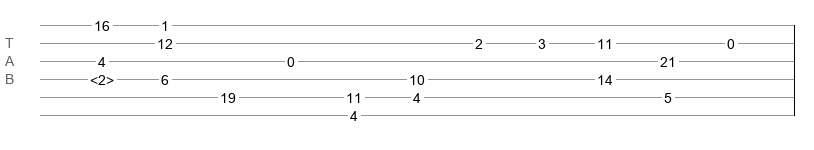0: (287, 54, 295, 64), (727, 36, 735, 46)
1: (161, 18, 169, 28)
10: (409, 72, 425, 82)
11: (346, 90, 362, 100), (597, 36, 613, 46)
12: (157, 36, 173, 46)
14: (597, 72, 613, 82)
16: (94, 18, 110, 28)
19: (220, 90, 236, 100)
2: (475, 36, 483, 46)
21: (660, 54, 676, 64)
3: (538, 36, 546, 46)
4: (98, 54, 106, 64), (350, 108, 358, 118), (413, 90, 421, 100)
5: (664, 90, 672, 100)
6: (161, 72, 169, 82)
harmonic: (90, 72, 114, 82)
